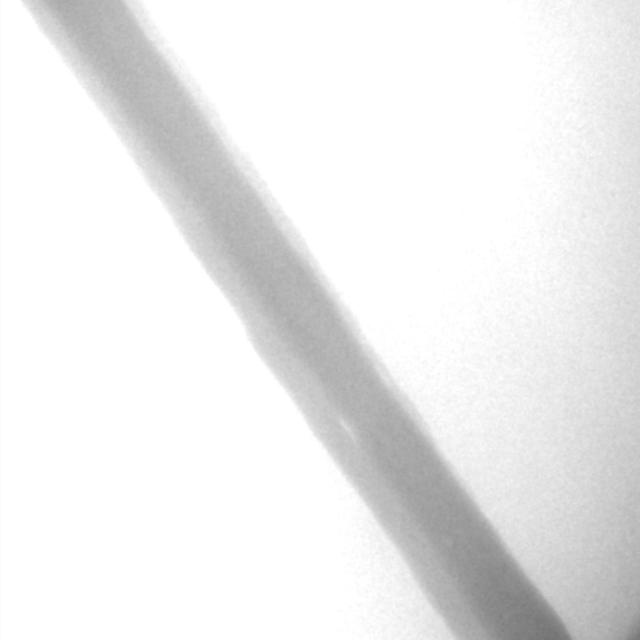air-hole: (343, 423, 350, 437), (448, 538, 450, 544)
broken-arc: (489, 539, 575, 640)
